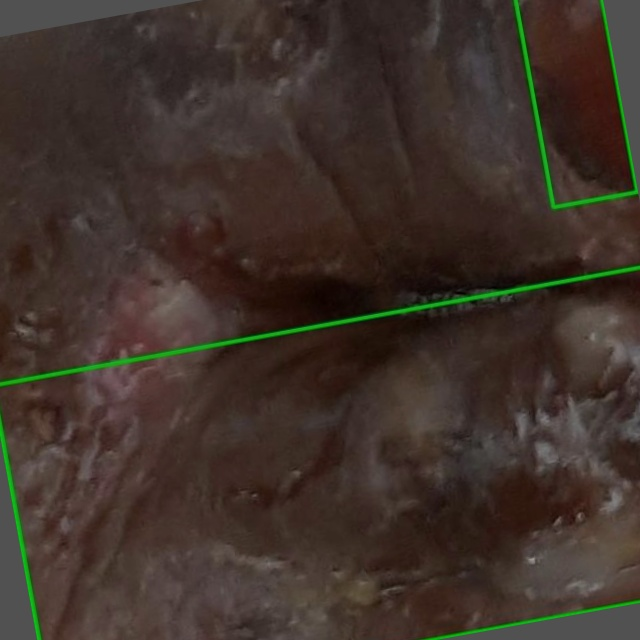Eczema: (0, 267, 639, 639), (515, 0, 637, 207)
